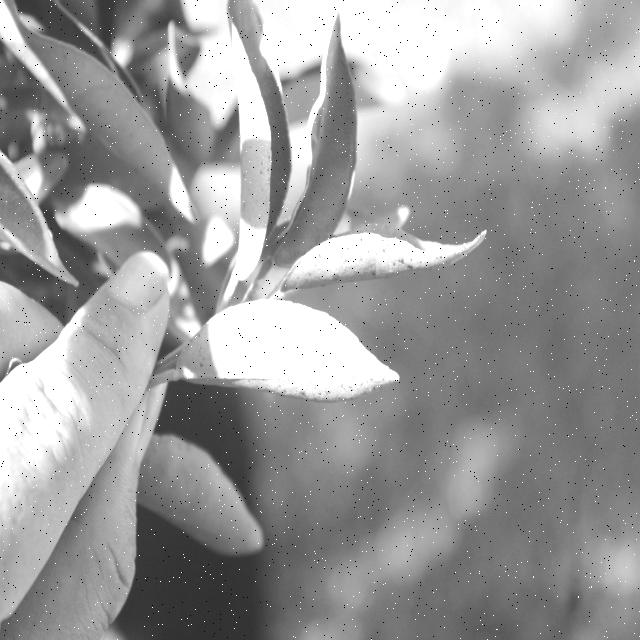blackspot: (184, 289, 406, 413), (278, 209, 492, 300), (222, 18, 281, 273)
